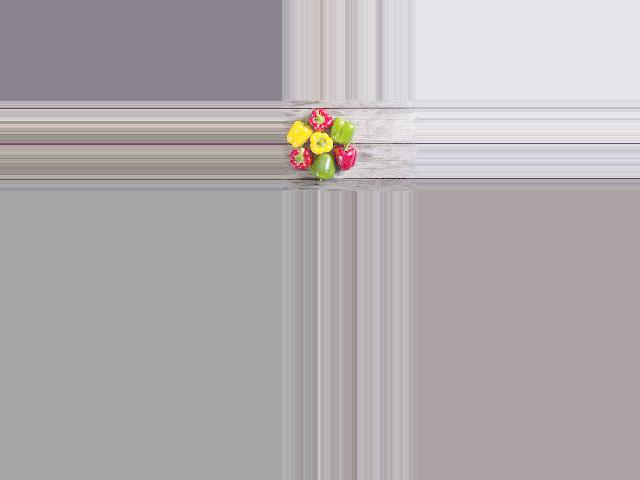bell_pepper: (284, 142, 312, 169)
